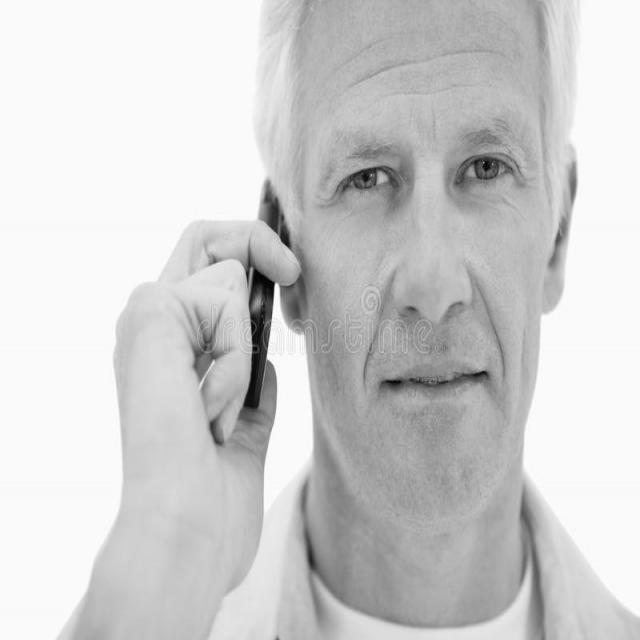phone: (105, 101, 407, 543)
